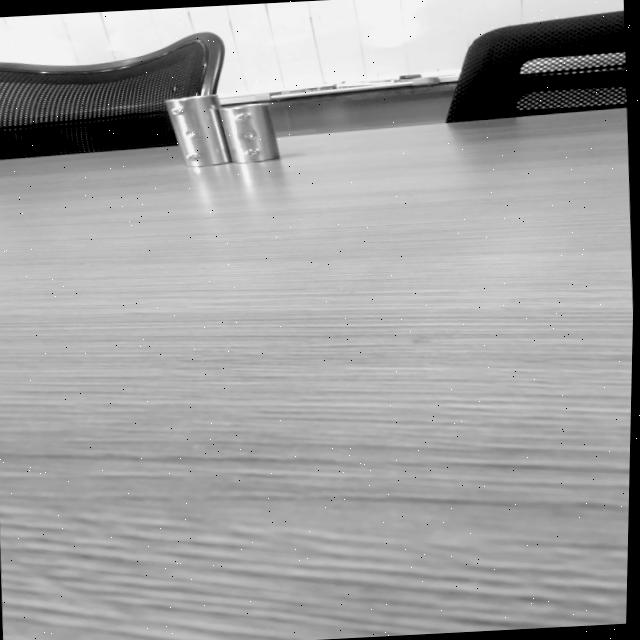Co_Lon: (164, 89, 231, 172)
Co_Nho: (218, 97, 280, 168)
